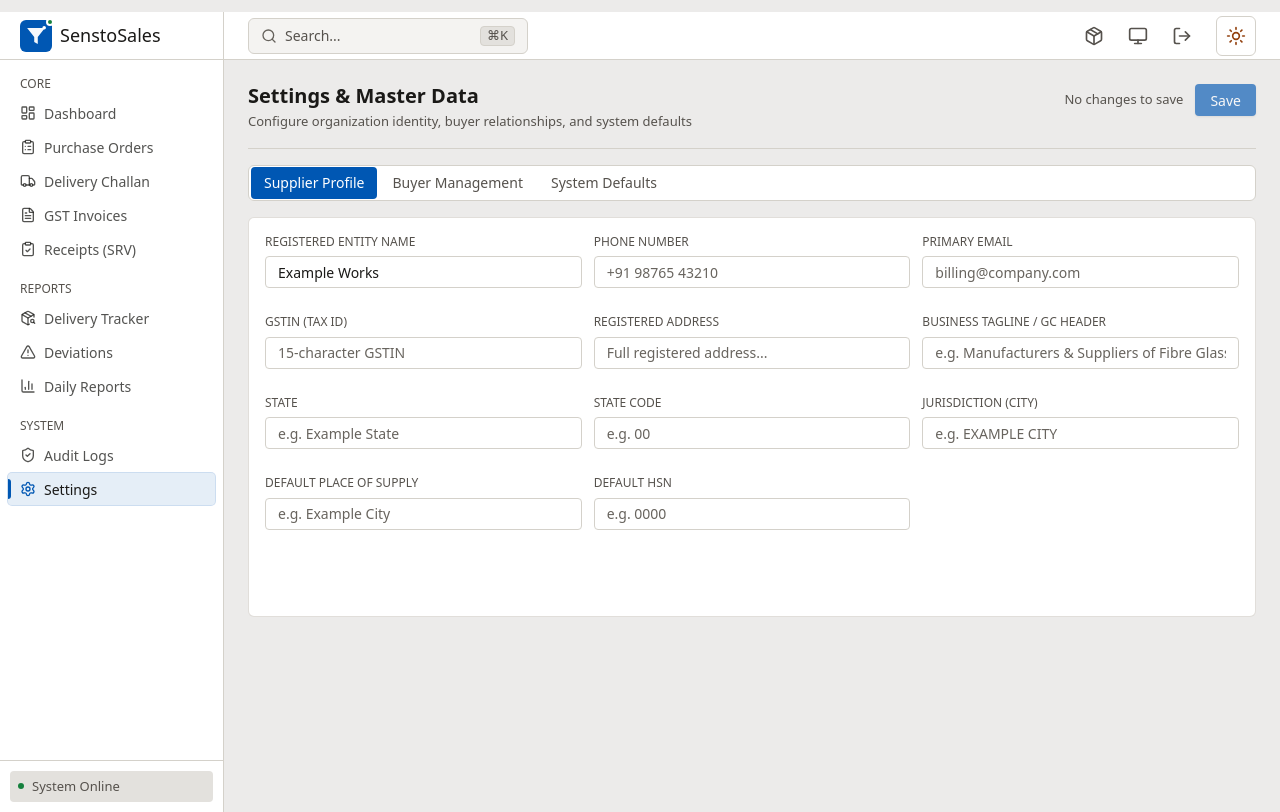
settings save (SPEC-15 PR 3, INV-72) › a GSTIN of the wrong shape is refused at its field (UI-SET-02)
This screenshot has width=1280, height=812.
Type "BADGSTIN" into the field labelled "GSTIN (Tax ID)" at (423, 352), box [265,336,582,368]
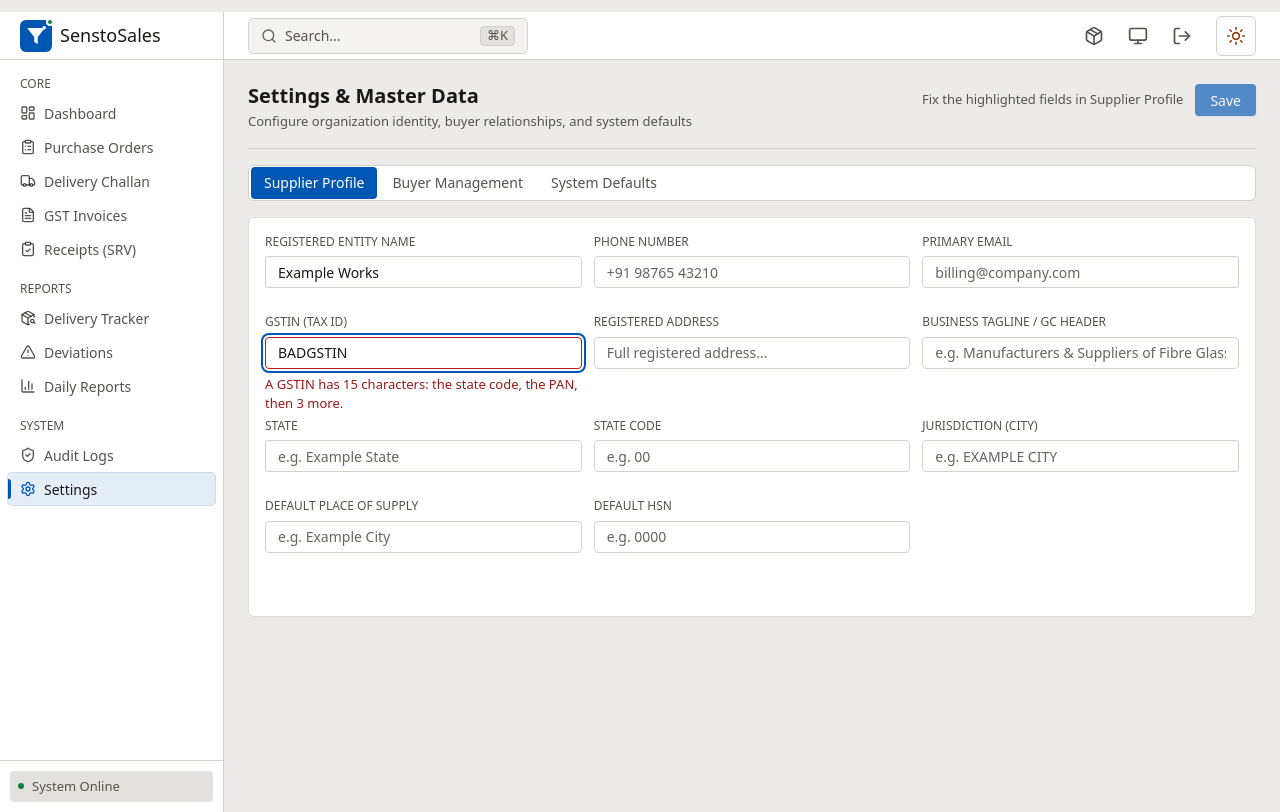
Expected: the button "Save" is disabled, [1195,84,1256,116]
Result: the text "A GSTIN has 15 characters: the state code, the PAN, then 3 more." is shown at [265,374,582,414]
